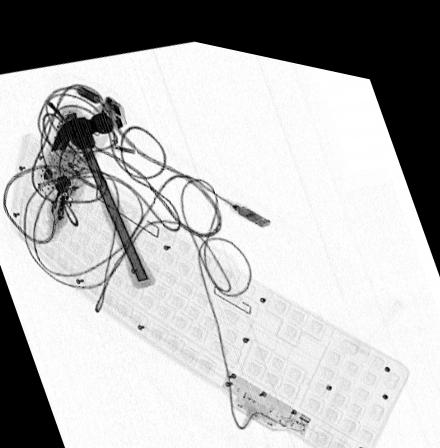Hammer: (50, 106, 156, 282)
